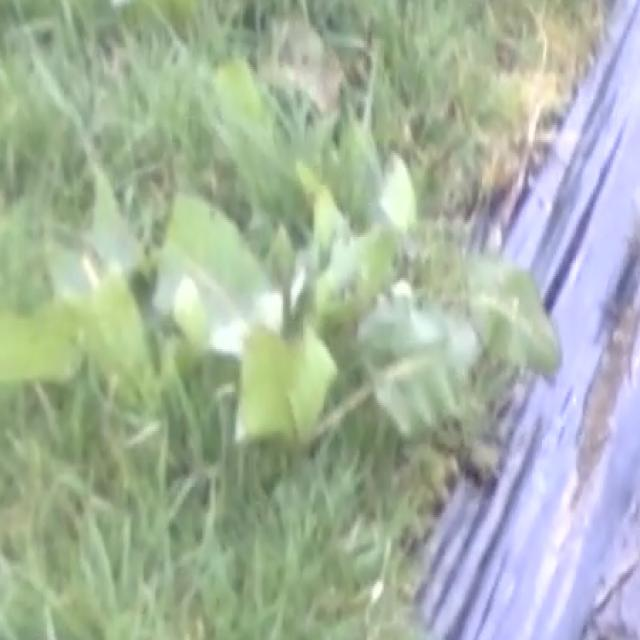organic waste: (10, 146, 608, 502)
